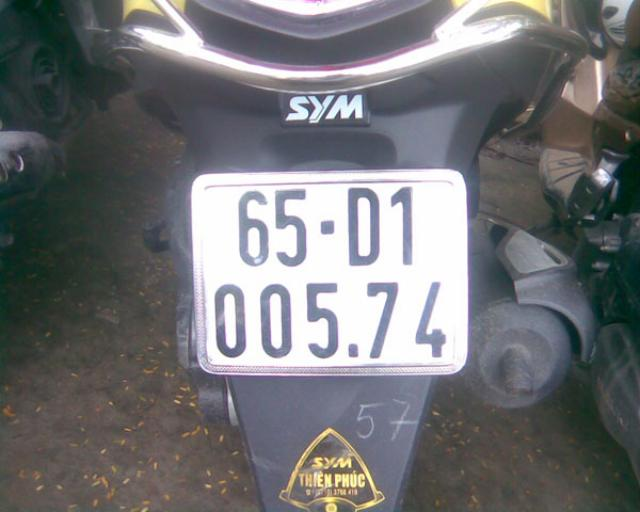plate: (200, 177, 468, 371)
